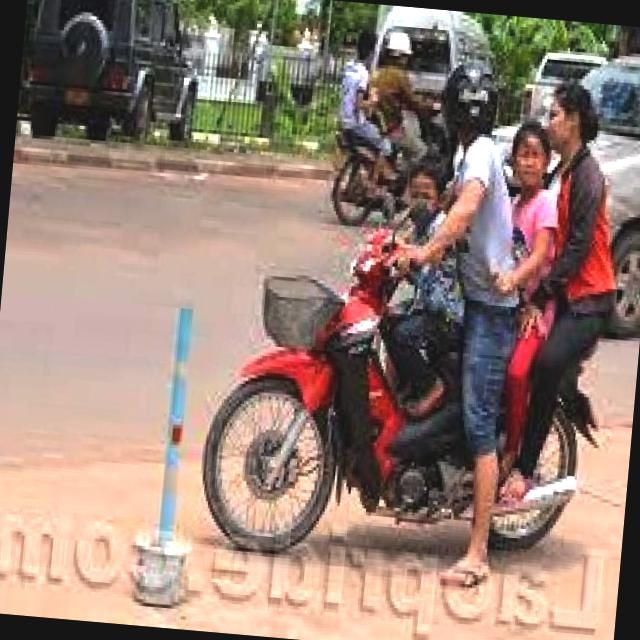motorcycle: (187, 211, 622, 586)
person: (403, 53, 531, 420), (513, 79, 638, 445), (470, 111, 569, 370), (371, 154, 476, 393)
rider_region: (194, 41, 624, 568)
